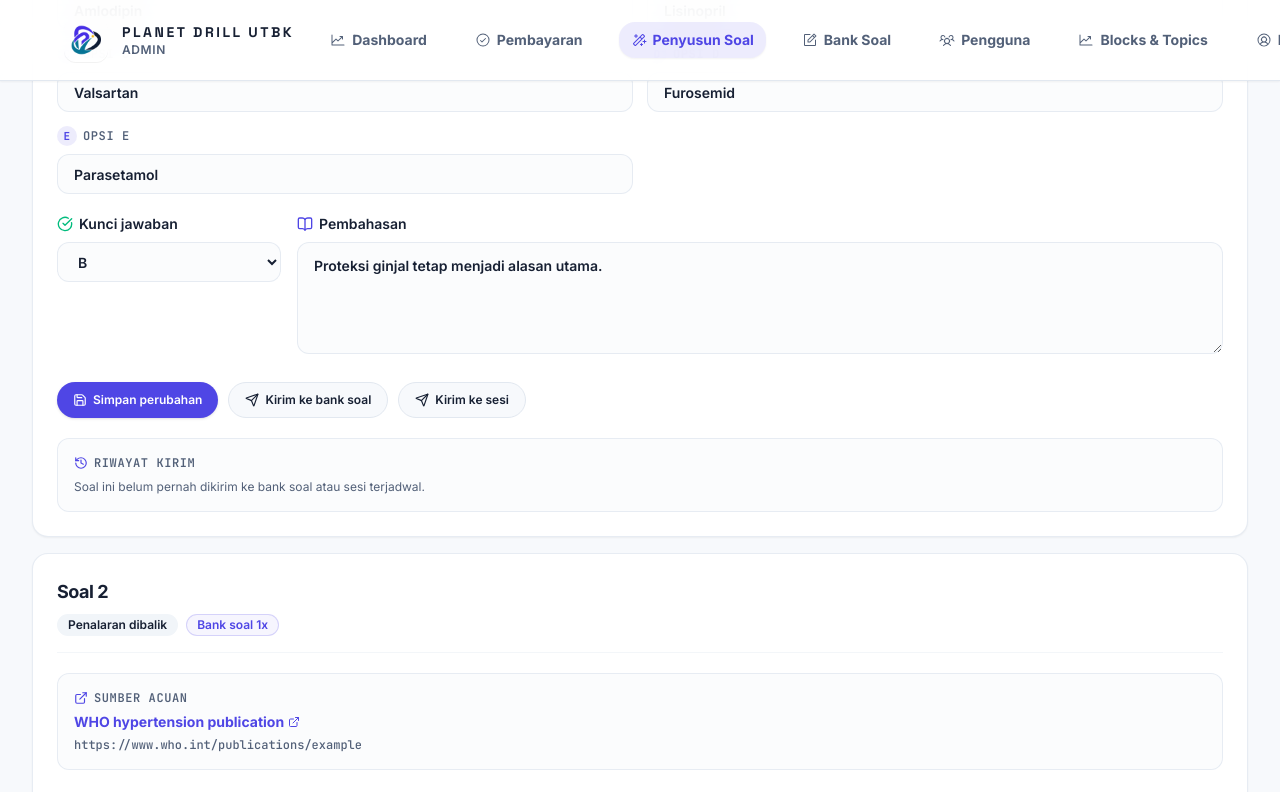
Scenario: Admin question generator review page › opens question-bank delivery even while events are still unavailable
This screenshot has width=1280, height=792.
(page scrolled)
Click the button "Kirim ke bank soal" at (308, 400), box 228,382 -> 388,418
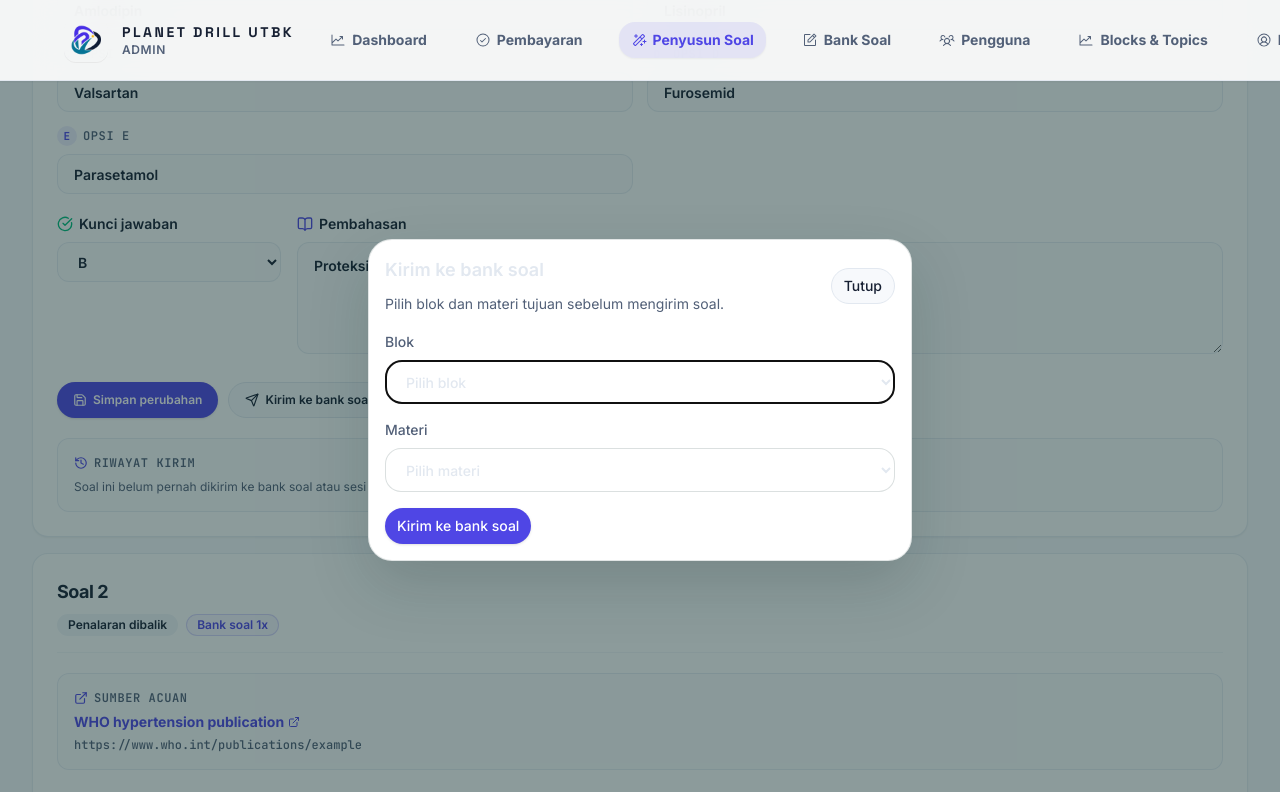
Result: the dialog "Kirim ke bank soal" is shown at 368,239 -> 912,561
Result: the dropdown labelled "Blok" is shown at 385,360 -> 895,404
